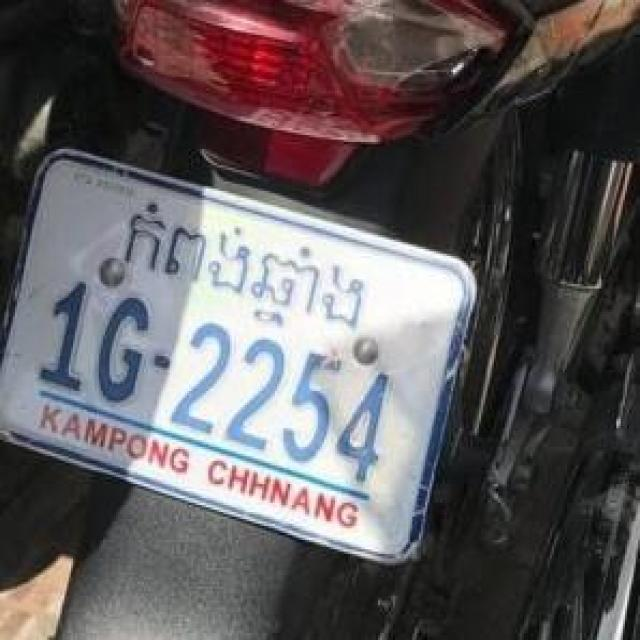Kampong_Chhnang: (122, 200, 364, 330)
